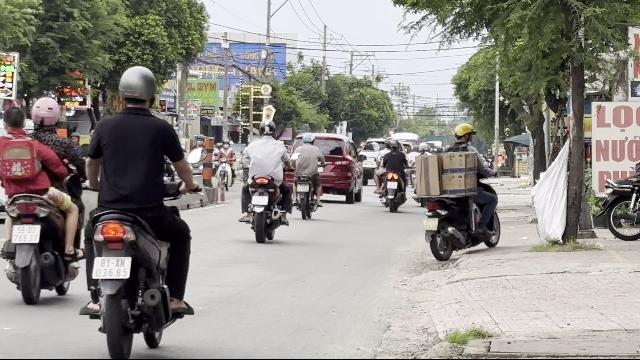helmet: (115, 66, 158, 110), (30, 96, 61, 130), (452, 122, 474, 146), (258, 120, 276, 138)
licenseplate: (93, 256, 131, 278), (12, 224, 38, 242), (422, 218, 438, 231), (252, 195, 268, 205)
motorcyclist: (76, 66, 200, 356), (0, 94, 82, 304), (412, 121, 502, 263), (236, 118, 292, 242)
nohelmet: (1, 106, 27, 133)
